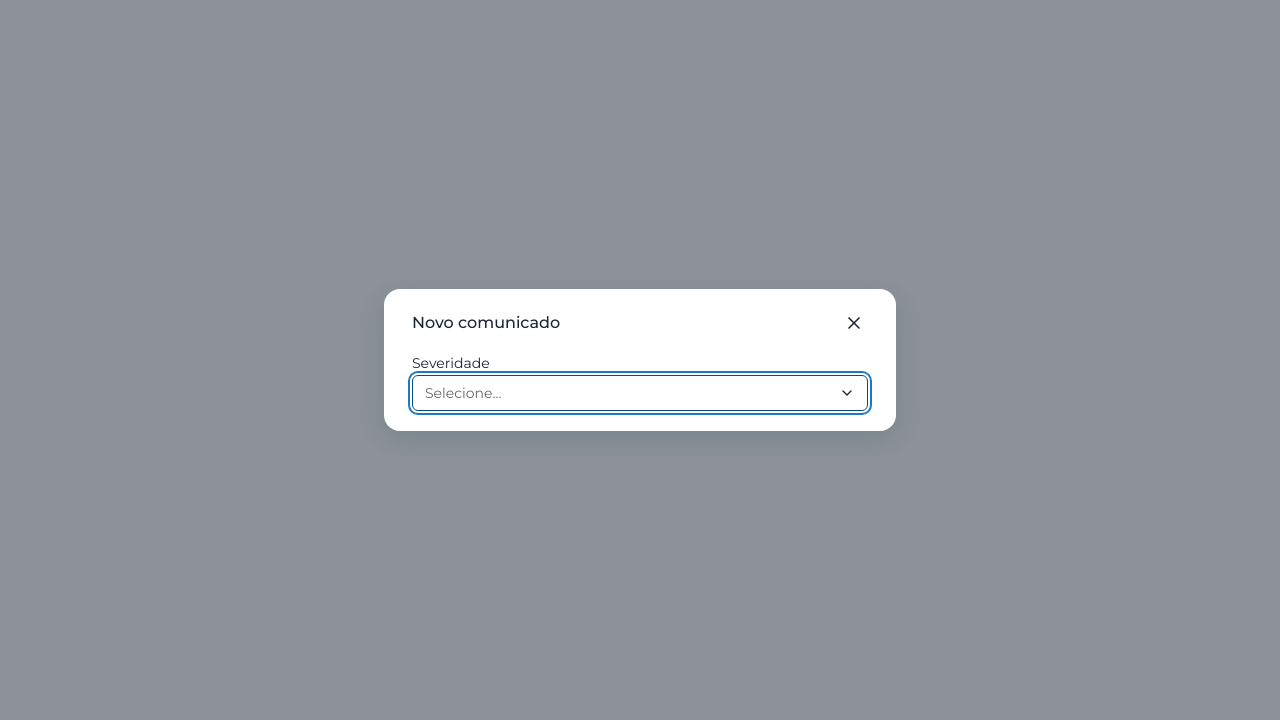
it: Select dentro de Modal › Escape com a lista aberta fecha só a lista, nunca o formulário
Click the dropdown named "severidade" at (463, 393), box [412,375,868,411]
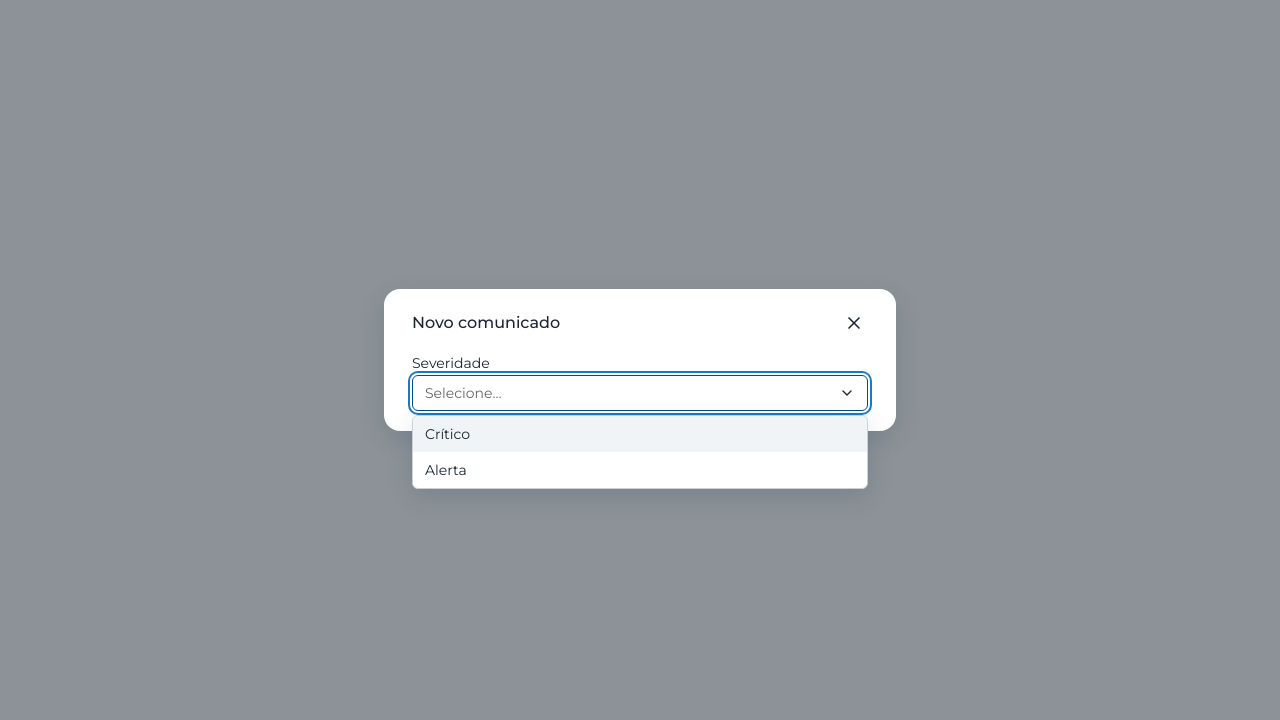
Now the list is shown, box [412,415,868,489]
Press Escape
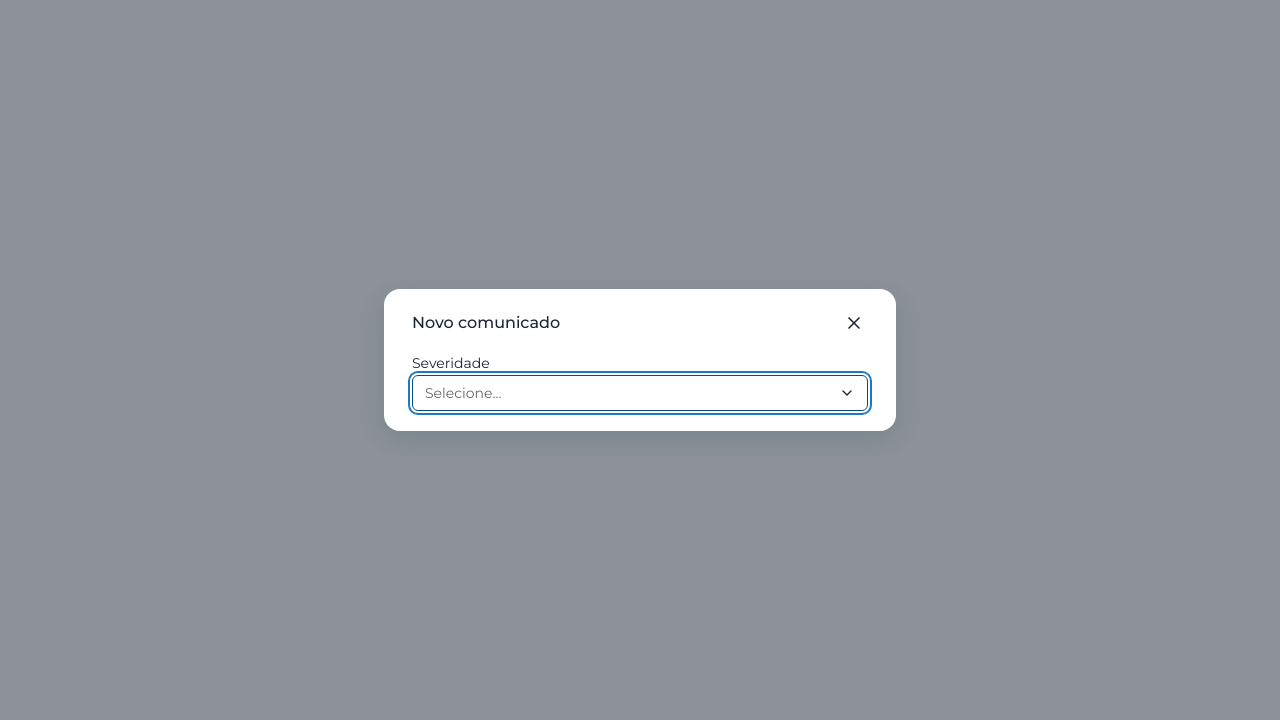
Now the list is gone
